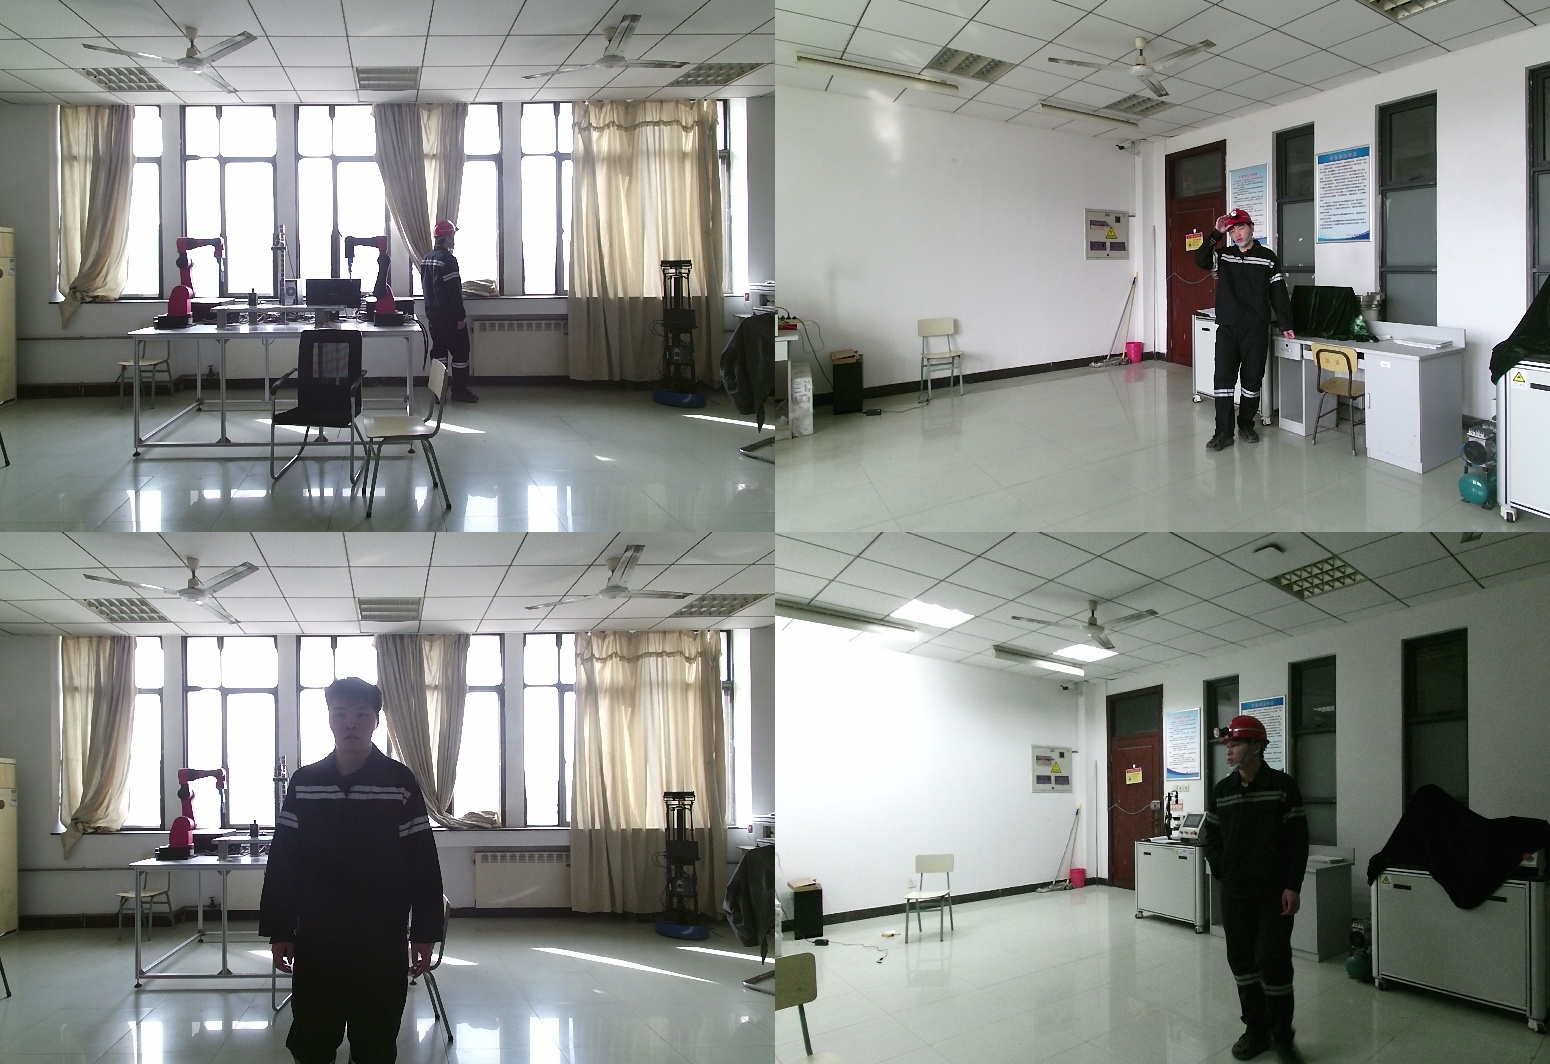person: (268, 678, 458, 1064), (1198, 714, 1332, 1064), (1198, 209, 1300, 453), (425, 220, 483, 414)
